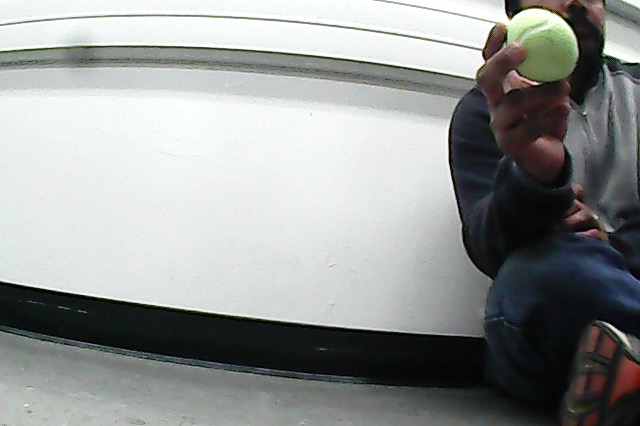ball: (503, 6, 581, 86)
